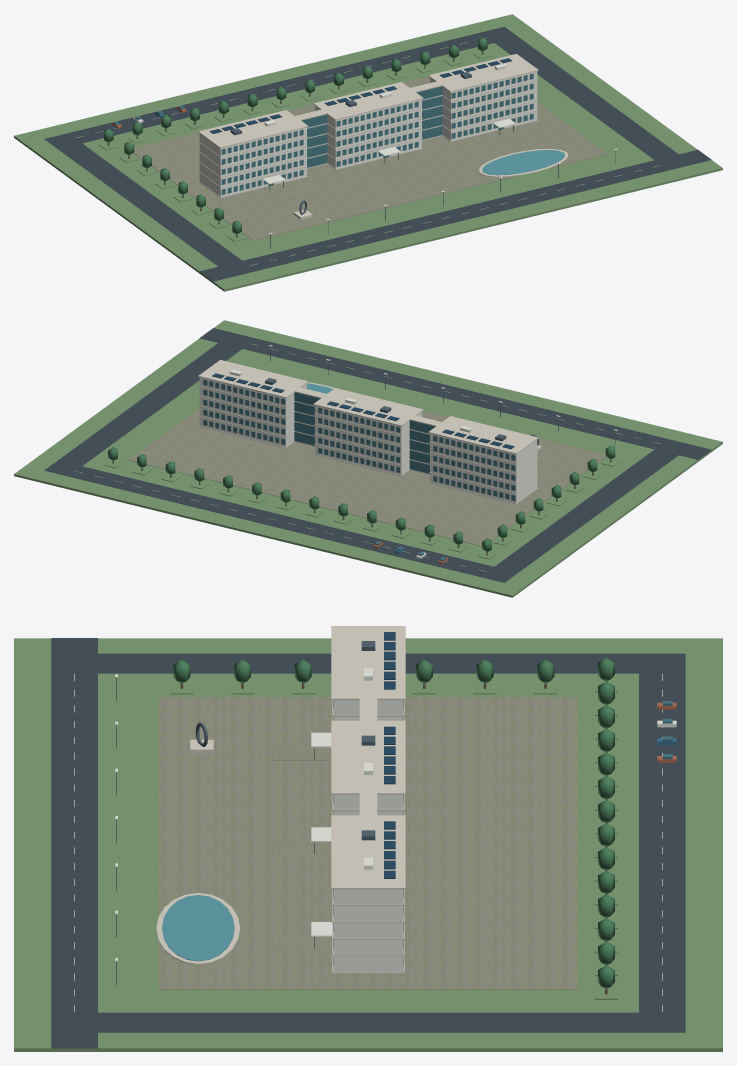
3 renders of one model, top to bottom at view 1: azimuth 30°, elevation 25°; view 2: azimuth 150°, elevation 25°; view 3: azimuth 270°, elevation 25°, orthographic. The views are drawn at different scales.
Parts seen in each view (by area): view 1: Landscape/grass, Landscape/road, Landscape/paving, Building 1/white, Building 4/white, Building 2/white, Landscape/leaf, Building 1/Roof/stone, Building 4/Roof/stone, Building 2/Roof/stone, Water garden/water, Building 3/glass (+2 smaller); view 2: Landscape/grass, Landscape/road, Landscape/paving, Building 1/white, Building 4/white, Building 2/white, Landscape/leaf, Building 1/Roof/stone, Building 4/Roof/stone, Building 2/Roof/stone, Building 3/glass, Building 5/glass; view 3: Landscape/grass, Landscape/paving, Landscape/road, Landscape/leaf, Building 4/white, Building 4/Roof/stone, Building 2/Roof/stone, Building 1/Roof/stone, Water garden/water, Accessible entrance/paving, Building 2/white, Water garden/stone (+2 smaller).
Part boxes in pixels (x1,y1,x2,y2): Landscape/grass: [14, 14, 722, 291]; Landscape/road: [44, 26, 711, 281]; Landscape/paving: [133, 76, 607, 240]; Building 1/white: [199, 127, 306, 196]; Building 4/white: [430, 71, 537, 140]; Building 2/white: [315, 99, 421, 168]; Landscape/leaf: [104, 37, 487, 234]; Building 1/Roof/stone: [198, 110, 308, 148]; Building 4/Roof/stone: [428, 54, 538, 92]; Building 2/Roof/stone: [313, 82, 423, 120]; Water garden/water: [482, 150, 565, 175]; Building 3/glass: [301, 114, 327, 167]; Landscape/grass: [14, 320, 722, 597]; Landscape/road: [44, 328, 711, 582]; Landscape/paving: [129, 408, 606, 546]; Building 1/white: [430, 433, 537, 502]; Building 4/white: [199, 377, 306, 446]; Building 2/white: [315, 405, 421, 474]; Landscape/leaf: [108, 445, 615, 551]; Building 1/Roof/stone: [428, 416, 538, 454]; Building 4/Roof/stone: [198, 360, 308, 398]; Building 2/Roof/stone: [313, 388, 423, 426]; Building 3/glass: [409, 420, 435, 473]; Building 5/glass: [294, 392, 320, 445]; Landscape/grass: [14, 638, 722, 1051]; Landscape/paving: [158, 697, 578, 989]; Landscape/road: [51, 638, 685, 1048]; Landscape/leaf: [173, 657, 614, 988]; Building 4/white: [333, 889, 403, 971]; Building 4/Roof/stone: [331, 815, 405, 889]; Building 2/Roof/stone: [331, 720, 405, 794]; Building 1/Roof/stone: [331, 626, 405, 700]; Water garden/water: [162, 895, 234, 961]; Accessible entrance/paving: [272, 748, 332, 949]; Building 2/white: [333, 795, 403, 815]; Water garden/stone: [156, 893, 240, 964].
Size of the model in its own units: 208 by 22.25 by 152.
14 materials, 1 textured.
